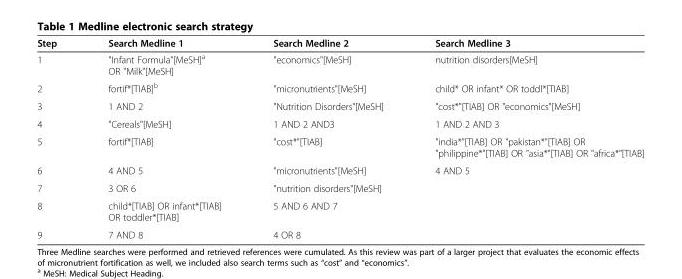table: (36, 36, 643, 240)
table column: (408, 36, 643, 240), (81, 36, 246, 240), (246, 36, 408, 240), (36, 36, 81, 240)
table column header: (36, 36, 643, 50)
table row: (36, 132, 643, 161), (36, 196, 643, 225), (36, 50, 643, 78), (36, 78, 643, 97), (36, 114, 643, 132), (36, 161, 643, 179), (36, 97, 643, 114), (36, 179, 643, 196), (36, 225, 643, 240), (36, 36, 643, 50)
